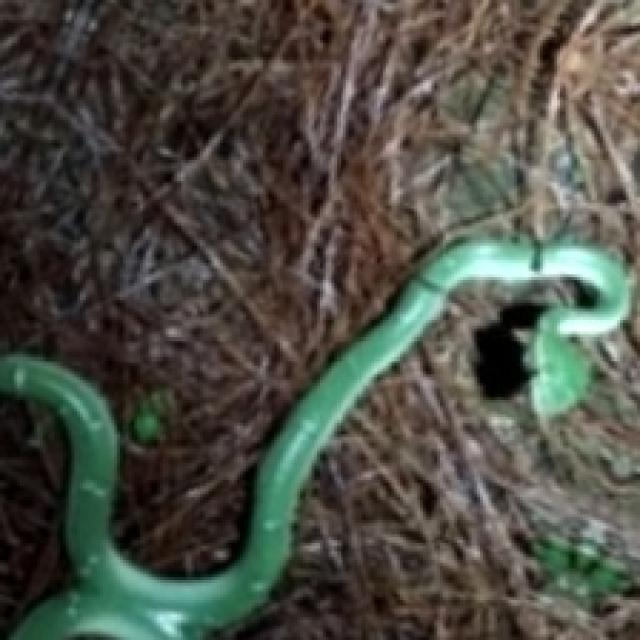north ph temple pitviper: (0, 240, 629, 637)
